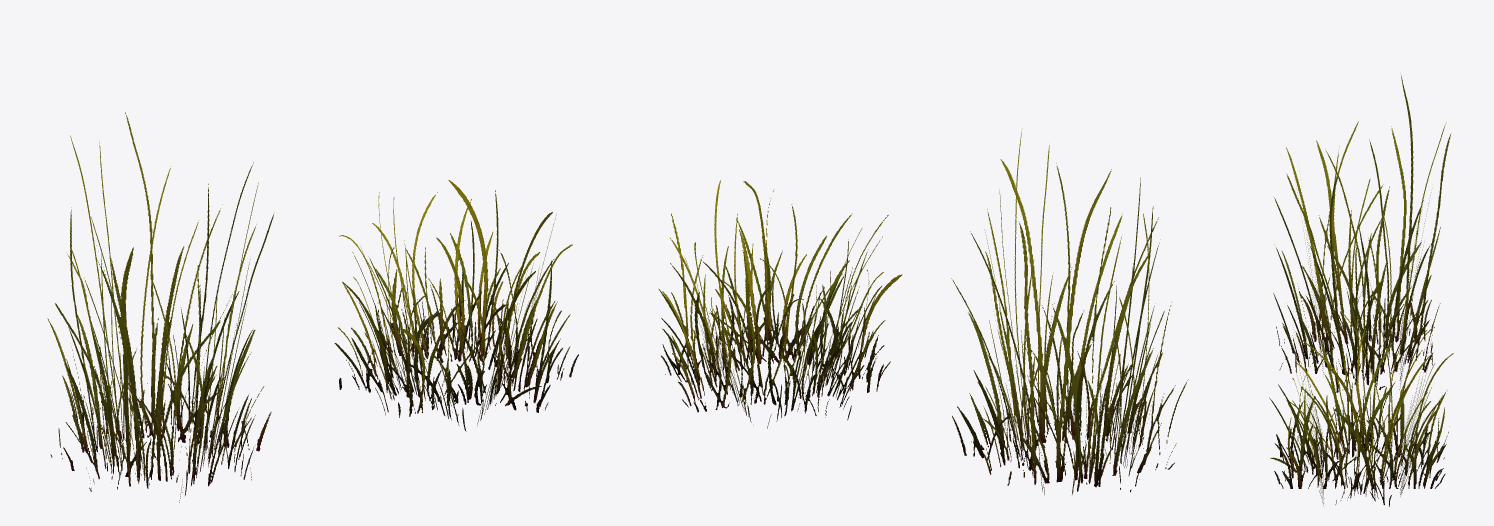
3 renders of one model, left to right at view 1: azimuth 30°, elevation 25°; view 2: azimuth 150°, elevation 25°; view 3: azimuth 270°, elevation 25°, orthographic. The views are drawn at different scales.
Visible parts, largest first — view 1: grass_tall, grass_short; view 2: grass_tall, grass_short; view 3: grass_tall, grass_short.
Boxes of the visible parts, x1,y1,x2,y2 form: grass_tall: (47,112,274,502); grass_short: (334,180,578,431); grass_tall: (951,128,1188,494); grass_short: (658,180,902,428); grass_tall: (1273,73,1451,392); grass_short: (1269,311,1453,506).
Size of the model in its own units: 557 by 373 by 257.
Materials: 2 (2 with a texture image).
